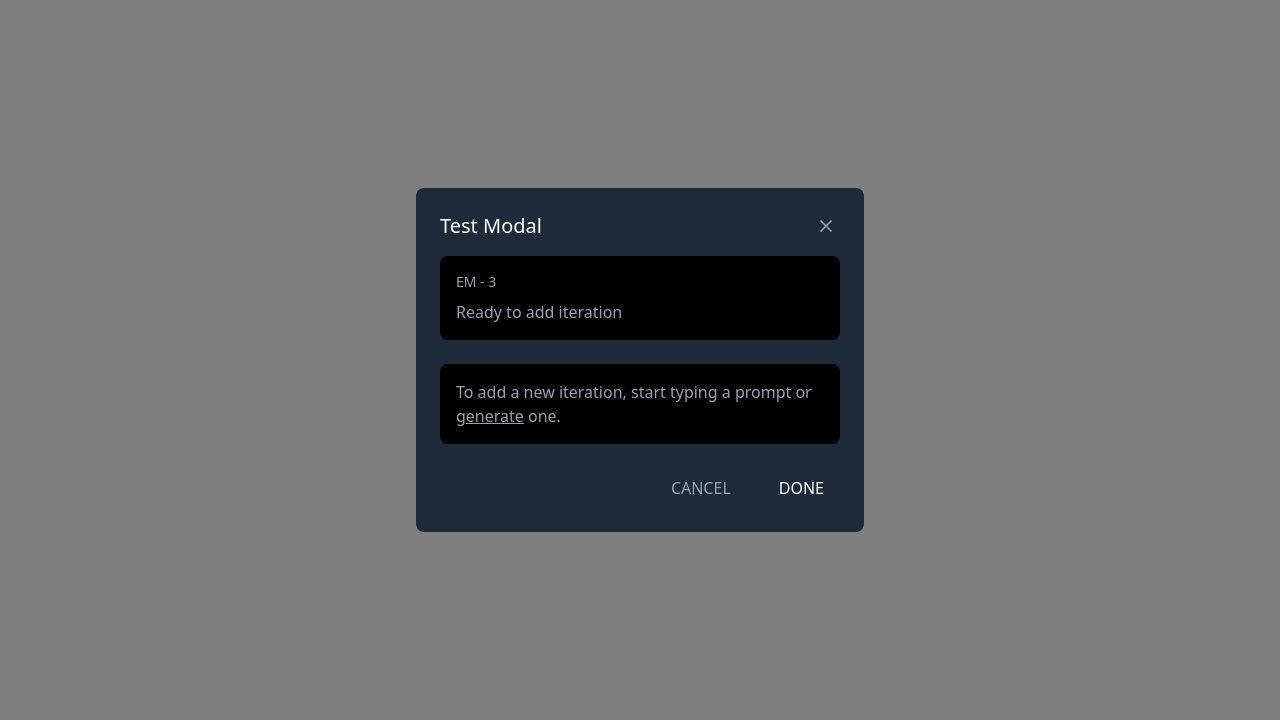
Test: AddIterationModal › Prompt Input State Management › generates random prompt when generate is clicked
Click the button with test id "generate-link". click: [490, 416]
box: [456, 404, 524, 428]
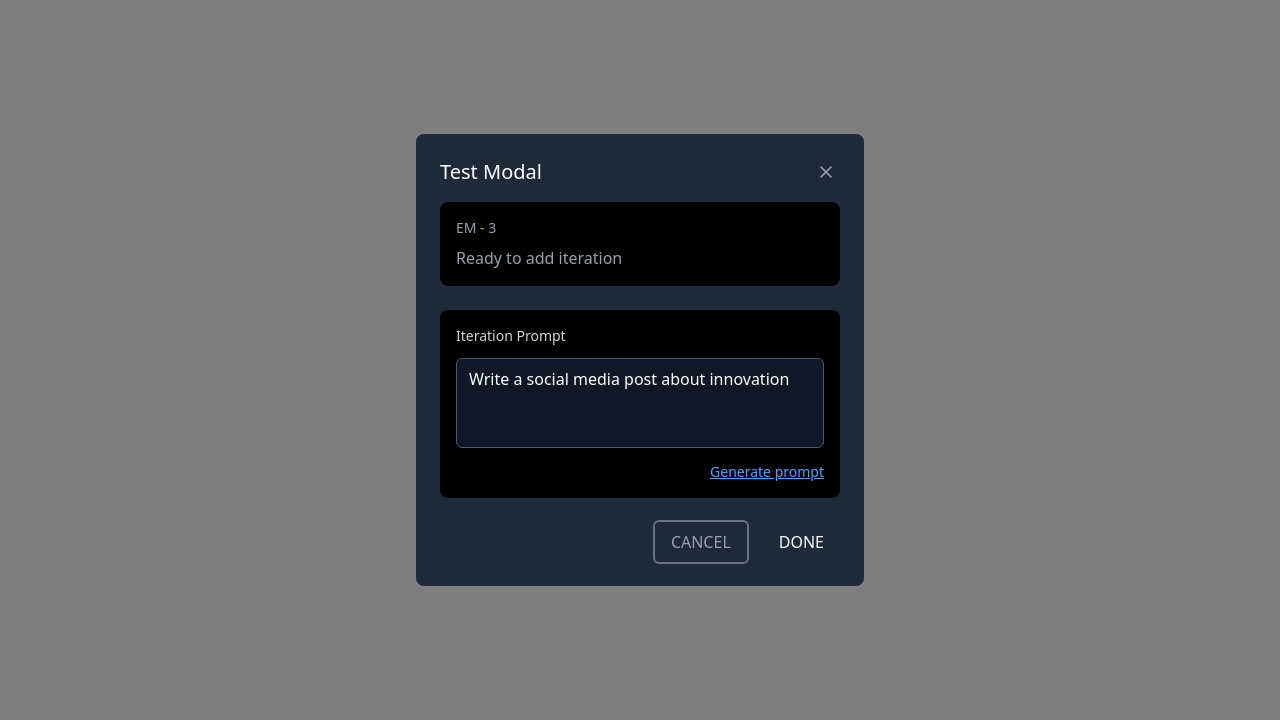
Check: the text box with test id "prompt-input" is not empty, box [456, 358, 824, 448]
